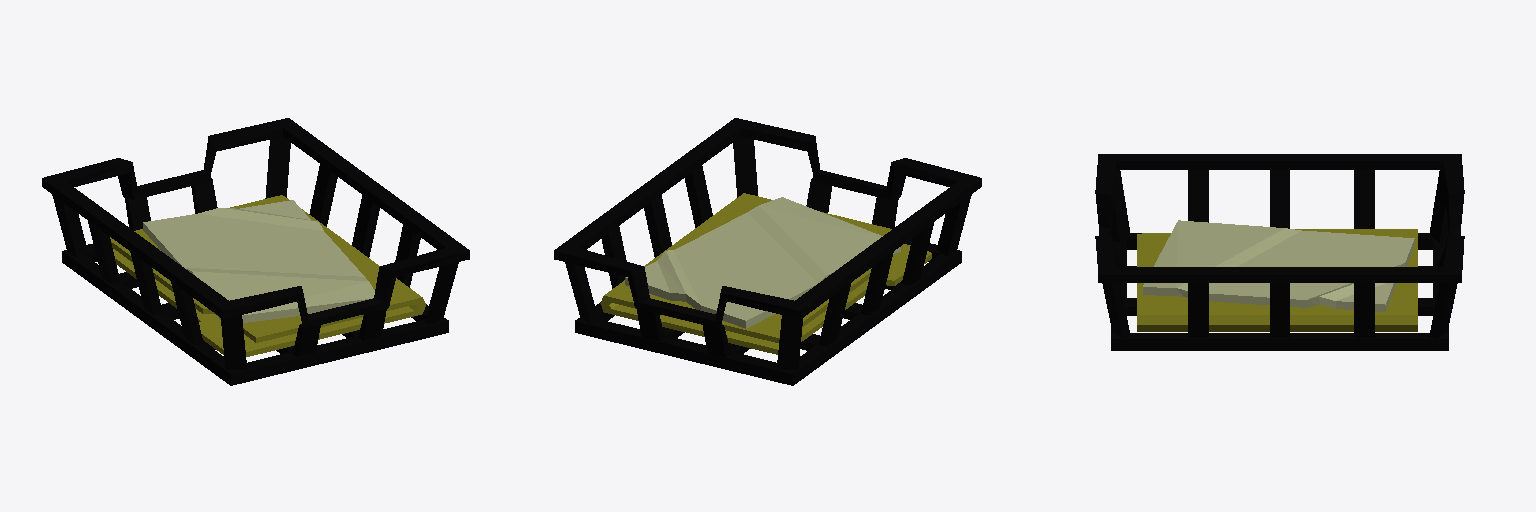
The model's file is FolderTray.obj.
The picture shows the model from 3 angles: view 1: azimuth 30°, elevation 25°; view 2: azimuth 150°, elevation 25°; view 3: azimuth 270°, elevation 25°; orthographic projection.
Visible parts, largest first — view 1: FolderTray; view 2: FolderTray; view 3: FolderTray.
Boxes of the visible parts, box(x1,y1,x2,y2) form: FolderTray: box(42, 118, 469, 385); FolderTray: box(554, 118, 981, 385); FolderTray: box(1095, 154, 1464, 350).
Bounding box in the file's own units: 0.3892 × 0.1254 × 0.5039.